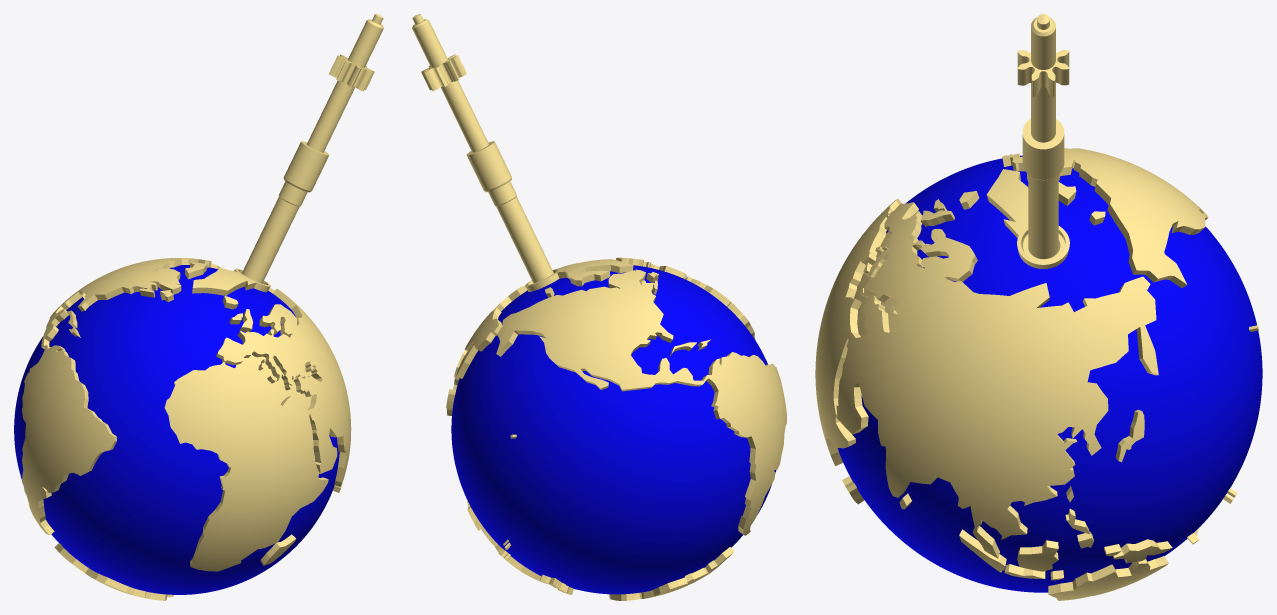
Rendered from globe_yellow_gold.glb.
3 renders of one model, left to right at view 1: azimuth 30°, elevation 25°; view 2: azimuth 150°, elevation 25°; view 3: azimuth 270°, elevation 25°, orthographic. The views are drawn at different scales.
Parts seen in each view (by area): view 1: astronomia:NONE.006, astronomia:Importée1.202; view 2: astronomia:NONE.006, astronomia:Importée1.202; view 3: astronomia:NONE.006, astronomia:Importée1.202.
Part boxes in pixels (x1,y1,x2,y2): astronomia:NONE.006: [14, 258, 351, 600]; astronomia:Importée1.202: [242, 14, 383, 283]; astronomia:NONE.006: [446, 257, 786, 600]; astronomia:Importée1.202: [412, 14, 553, 283]; astronomia:NONE.006: [815, 148, 1262, 600]; astronomia:Importée1.202: [1017, 14, 1069, 258].
Size of the model in its own units: 0.00971 by 0.0138 by 0.00804.
